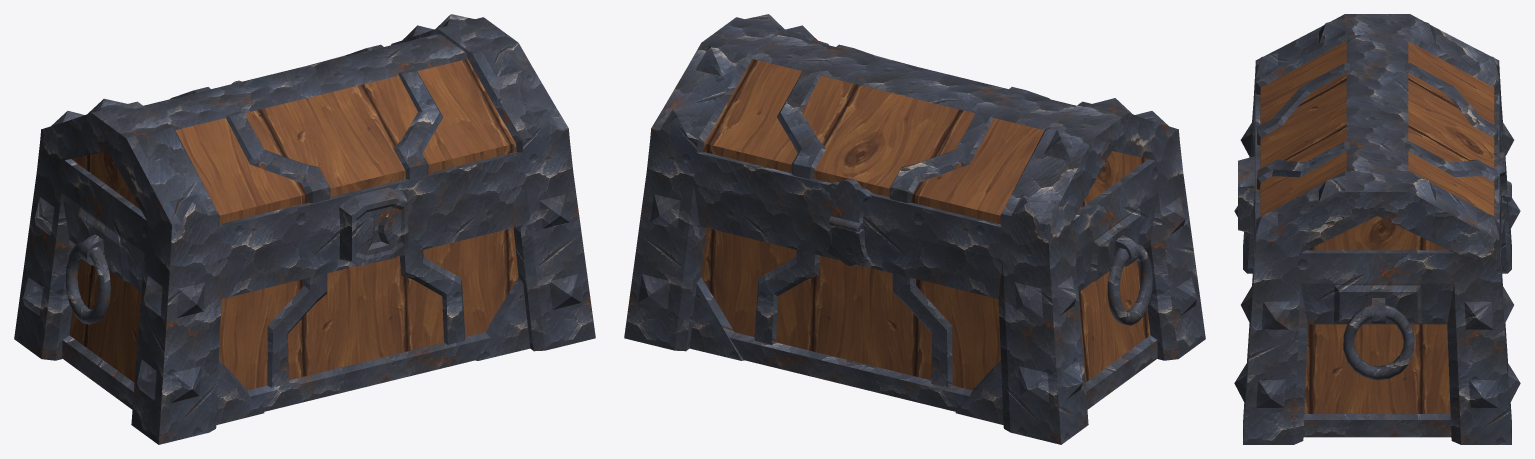
The model's file is chest_loot.glb.
3 views of the same model, side by side, from view 1: azimuth 30°, elevation 25°; view 2: azimuth 150°, elevation 25°; view 3: azimuth 270°, elevation 25° (orthographic). The views are drawn at different scales.
Parts seen in each view (by area): view 1: model, lid; view 2: model, lid; view 3: lid, model.
Part boxes in pixels (bbox=[...]): model: bbox=[14, 173, 595, 444]; lid: bbox=[36, 14, 573, 271]; model: bbox=[624, 173, 1205, 444]; lid: bbox=[646, 14, 1183, 271]; lid: bbox=[1238, 14, 1506, 283]; model: bbox=[1234, 102, 1520, 444].
Bounding box in the file's own units: 0.7656 × 0.4291 × 0.4532.
Materials: 2 (2 with a texture image).
